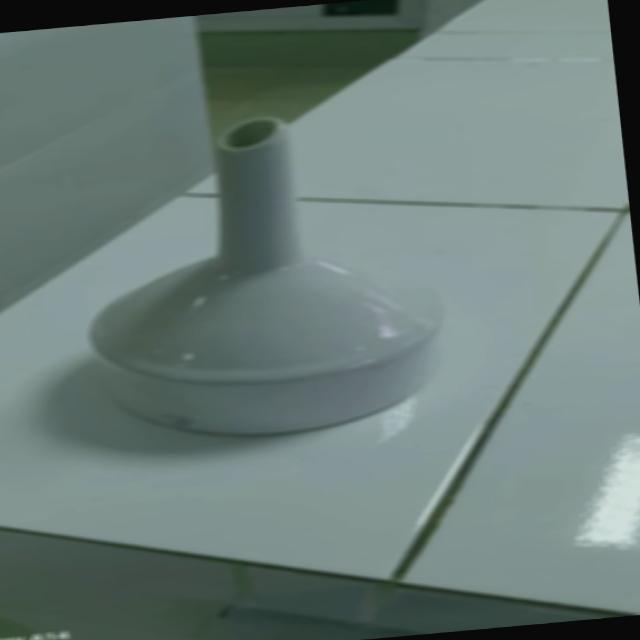Bunchen funnel: (60, 104, 474, 458)
